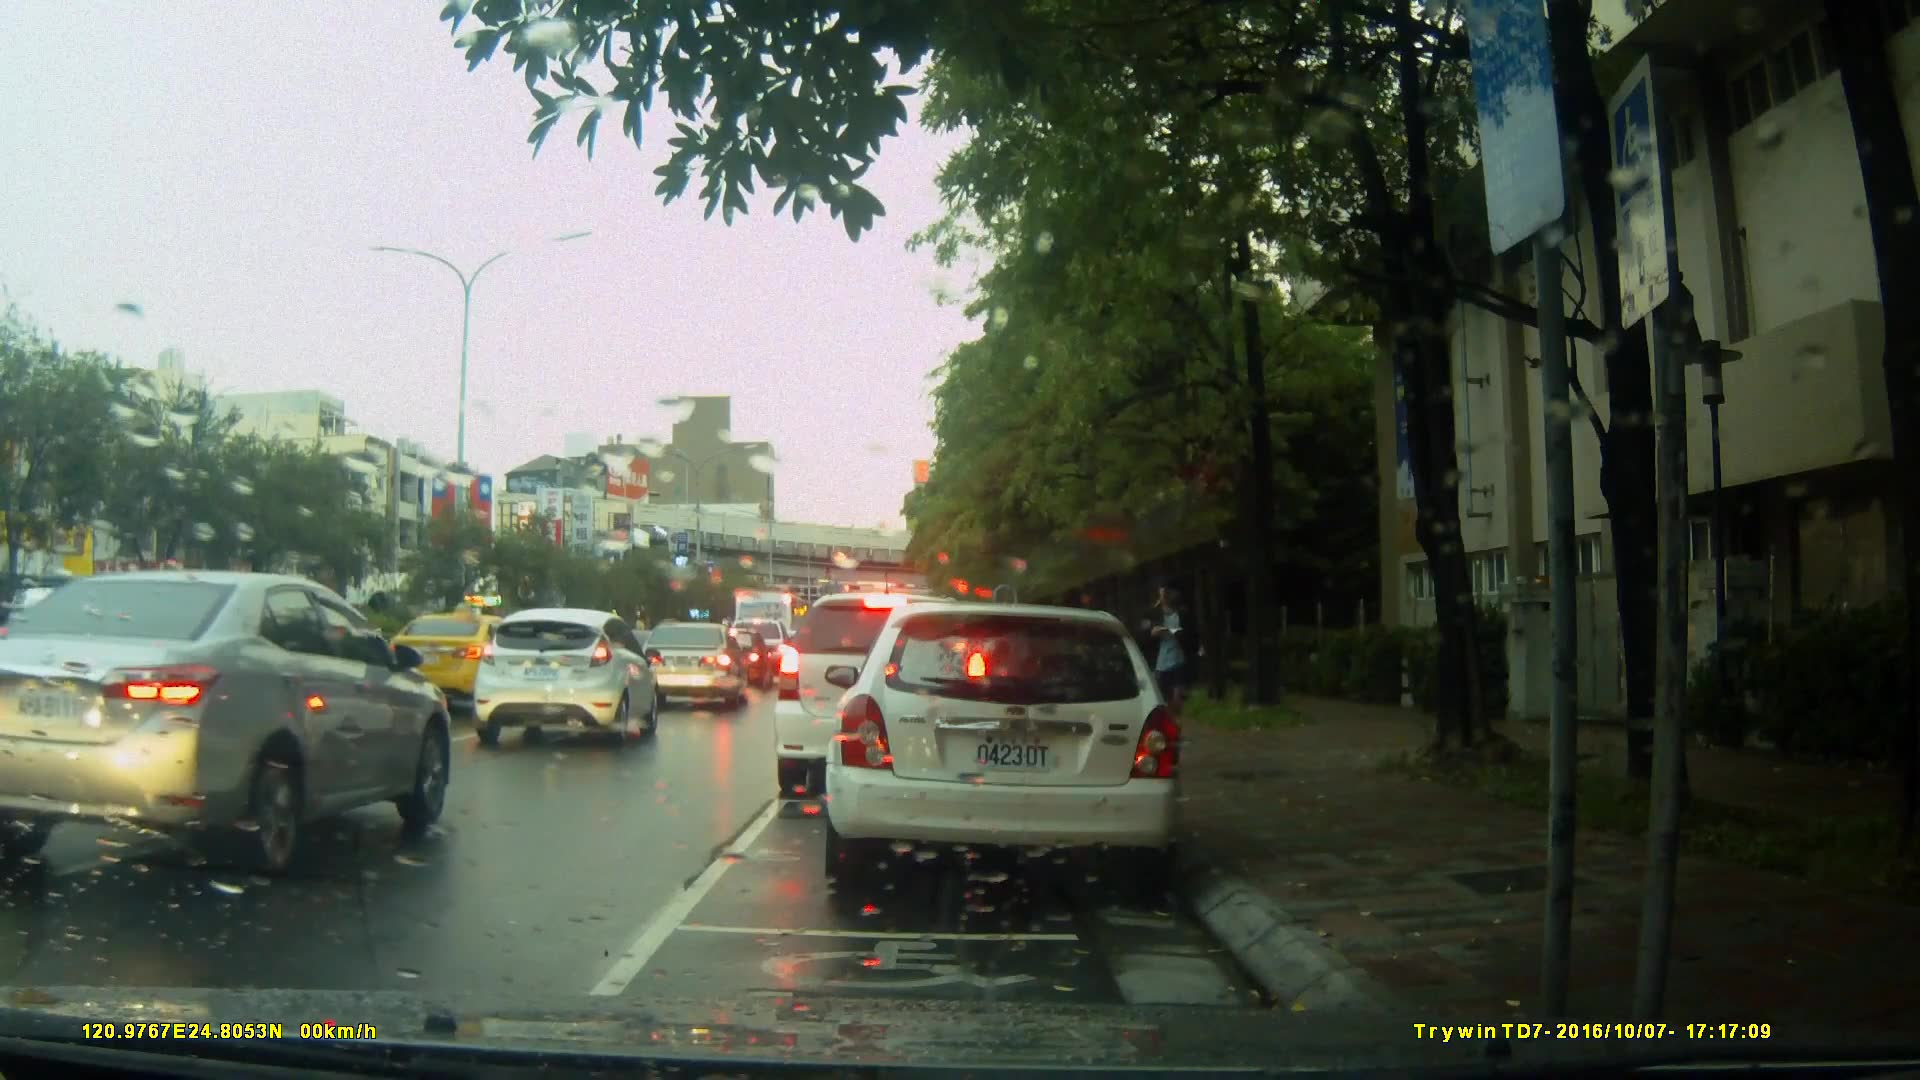pedestrian: (1135, 574, 1204, 751)
vehicle: (1, 567, 461, 885), (835, 594, 1194, 898), (776, 590, 1026, 784), (470, 607, 663, 748), (390, 610, 545, 711), (635, 620, 751, 720), (718, 587, 817, 677), (704, 628, 774, 689)
